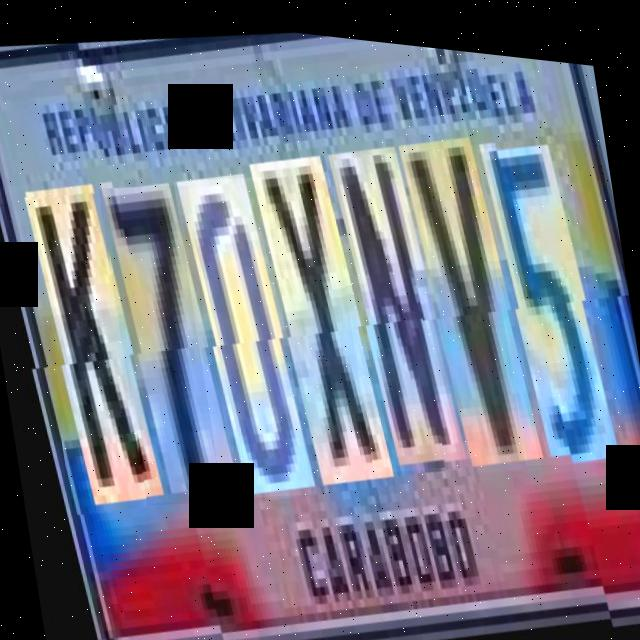0: (174, 163, 312, 501)
5: (478, 123, 616, 461)
7: (100, 173, 238, 511)
K: (24, 183, 162, 521)
N: (326, 134, 464, 473)
V: (396, 124, 541, 472)
X: (246, 144, 392, 492)
